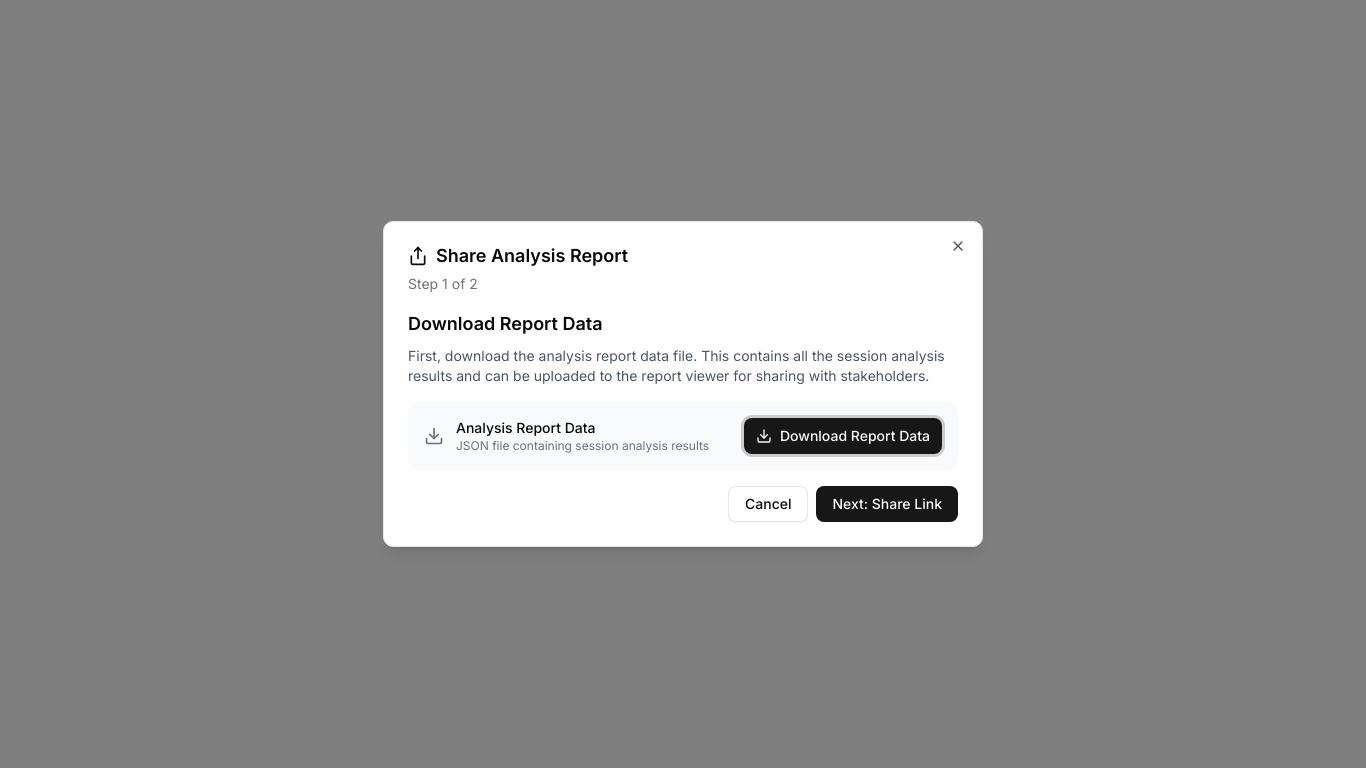
Test case: ShareReportModal › Step 1 - Download Report › can advance to step 2 without downloading
// Can click next without downloading
Click the button "Next: Share Link": (887, 504) [816,486,958,522]
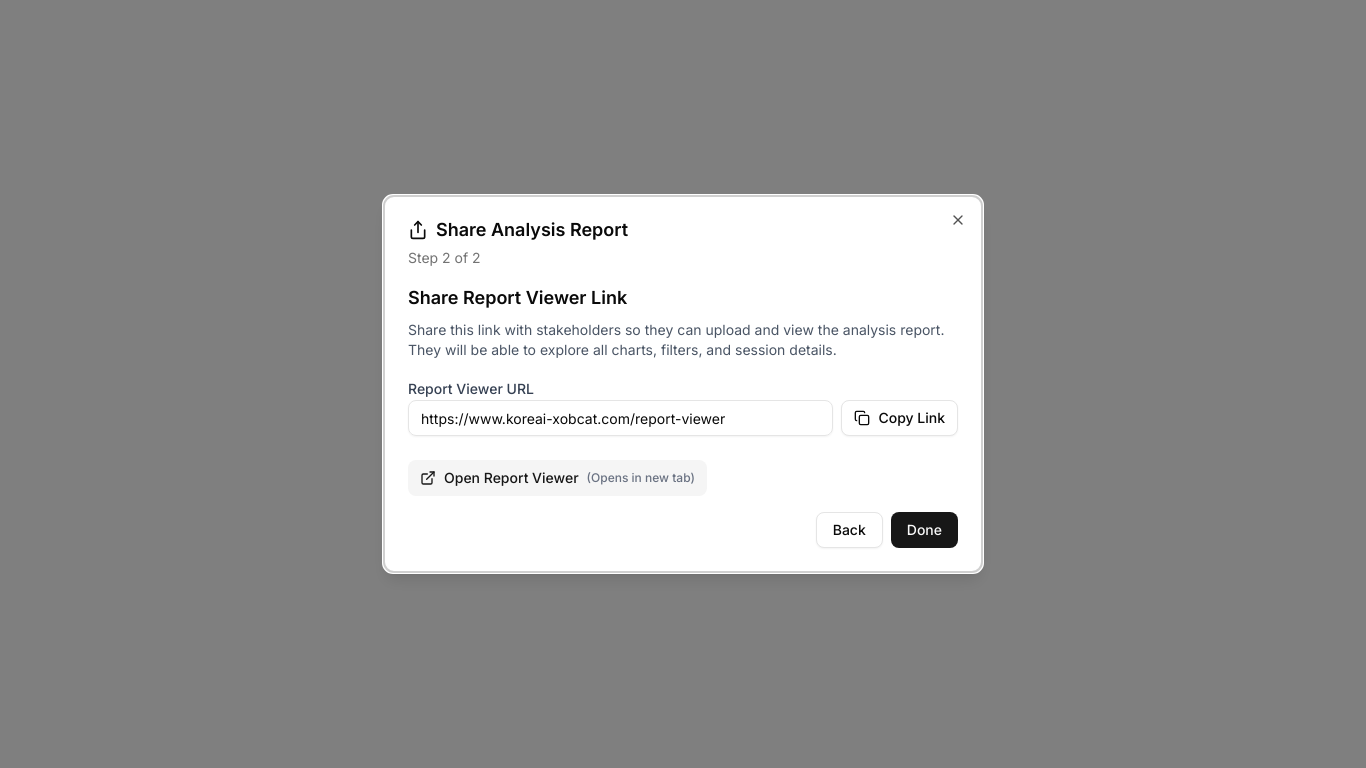
expect the text "Step 2 of 2" is shown: met, box [408,249,481,266]
expect the heading "Share Report Viewer Link" is shown: met, box [408,287,627,308]
